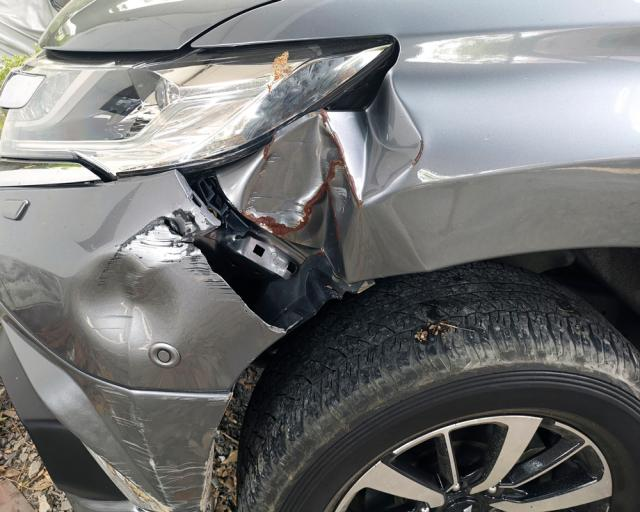crack: (161, 217, 183, 237)
dent: (236, 70, 427, 282), (65, 253, 182, 350)
scratch: (119, 208, 258, 320), (96, 385, 209, 512)
